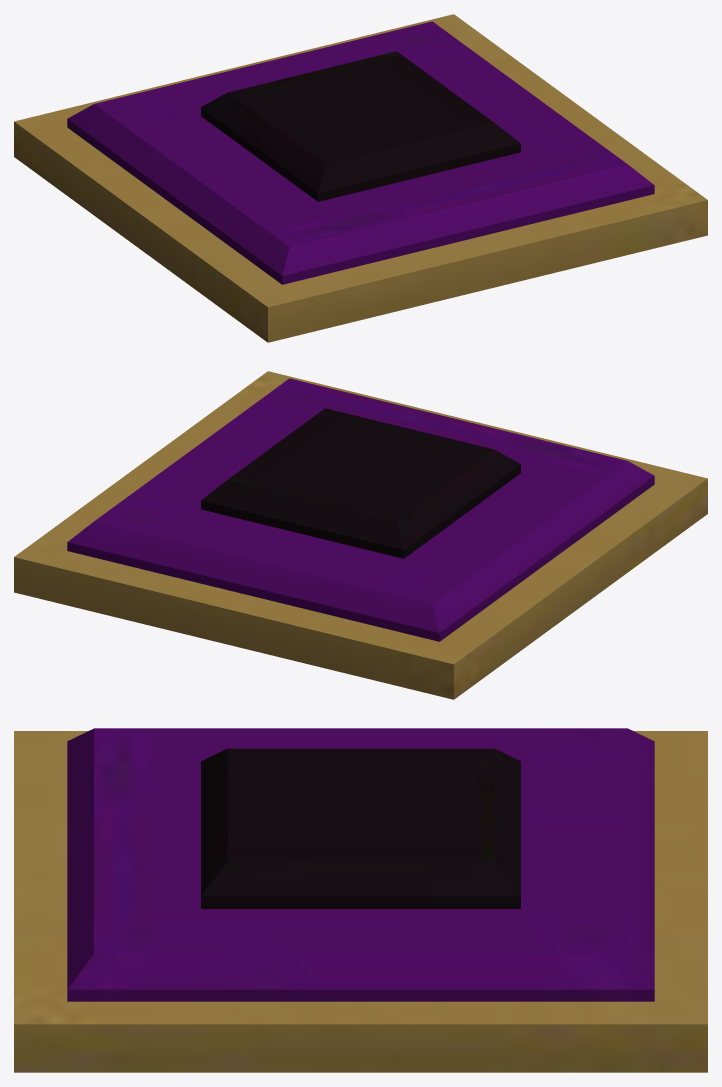
The model's file is quantum-processor.glb.
The picture shows the model from 3 angles, top to bottom: view 1: azimuth 30°, elevation 25°; view 2: azimuth 150°, elevation 25°; view 3: azimuth 270°, elevation 25°; orthographic projection. The views are drawn at different scales.
Parts seen in each view (by area): view 1: quantum-processor; view 2: quantum-processor; view 3: quantum-processor.
Part boxes in pixels (left/top/right/bottom): quantum-processor: left=14, top=14, right=707, bottom=342; quantum-processor: left=14, top=371, right=707, bottom=699; quantum-processor: left=14, top=728, right=707, bottom=1072.
Size of the model in its own units: 0.26 by 0.05 by 0.26.
Materials: 1 (1 with a texture image).
